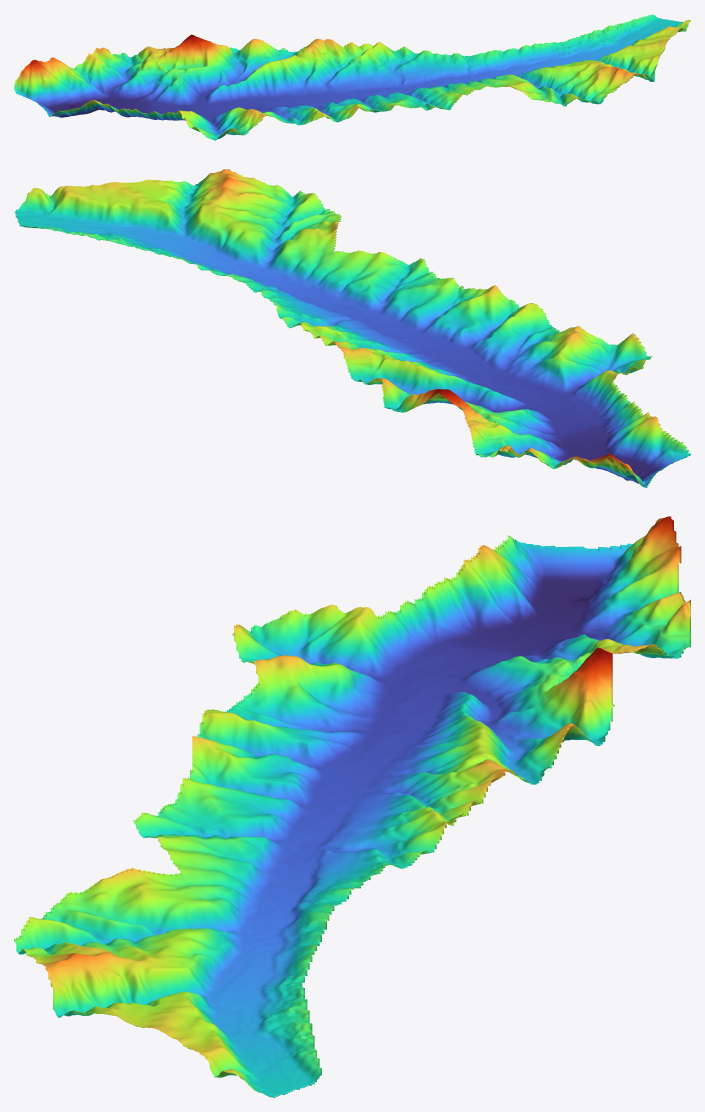
File: hisorak_resample_2025.glb
The picture shows the model from 3 angles, top to bottom: view 1: azimuth 30°, elevation 25°; view 2: azimuth 150°, elevation 25°; view 3: azimuth 270°, elevation 25°; orthographic projection. The views are drawn at different scales.
Parts seen in each view (by area): view 1: Gisorak_CMM_UTM42+EGM08.001; view 2: Gisorak_CMM_UTM42+EGM08.001; view 3: Gisorak_CMM_UTM42+EGM08.001.
Part boxes in pixels (x1,y1,x2,y2): Gisorak_CMM_UTM42+EGM08.001: (14,14,690,140); Gisorak_CMM_UTM42+EGM08.001: (14,169,690,487); Gisorak_CMM_UTM42+EGM08.001: (14,516,690,1097).
Size of the model in its own units: 6.69 by 0.4009 by 3.44.
Materials: 1 (1 with a texture image).
